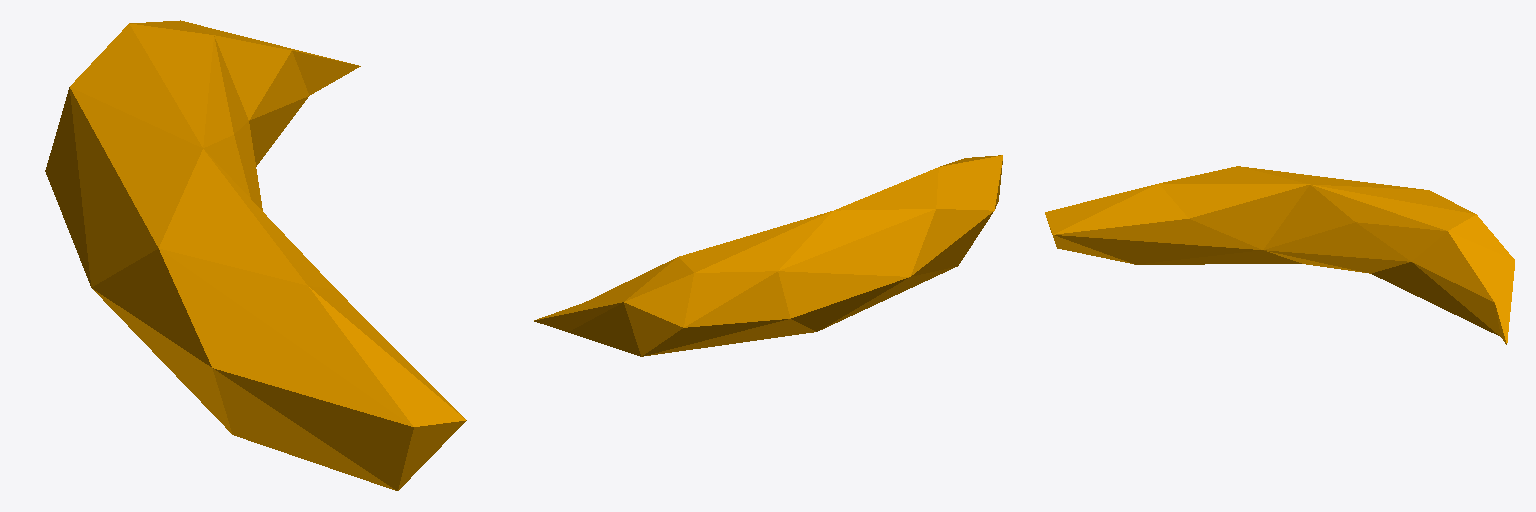
robot.urdf — banana:
<?xml version="1.0"?>
<robot name="banana">
  <link name="banana">
    <visual>
      <origin xyz="0.0 0.0 0.0"/>
      <geometry>
        <mesh filename="decomposed_new1.obj" scale="0.01 0.01 0.01"/>
      </geometry>
    </visual>
    <collision>
      <origin xyz="0.0 0.0 0.0"/>
      <geometry>
        <mesh filename="decomposed_new1.obj" scale="0.01 0.01 0.01"/>
      </geometry>
    </collision>
    <inertial>
      <mass value="0.068"/>
      <inertia ixx="0.0001" ixy="0.0" ixz="0.0" iyy="0.0001" iyz="0.0" izz="0.0001"/>
    </inertial>
  </link>
</robot>

--- Facts derived from the render (not from the file) ---
3 views of the same robot in one strip: view 1: azimuth 30°, elevation 25°; view 2: azimuth 150°, elevation 25°; view 3: azimuth 270°, elevation 25° (orthographic).
Model banana with 1 links and 0 joints (none), rooted at banana, posed all joints at 0.
Links seen in each view (by area): view 1: banana; view 2: banana; view 3: banana.
Boxes of the visible links, bbox=[...] form: banana: bbox=[45, 20, 466, 490]; banana: bbox=[534, 155, 1002, 356]; banana: bbox=[1045, 166, 1514, 344].
Bounding box of the posed robot: 0.0076 × 0.0123 × 0.0025 m (x, y, z).
Meshes: 1 distinct files referenced, 1 mesh visuals loaded (1 OBJ).
